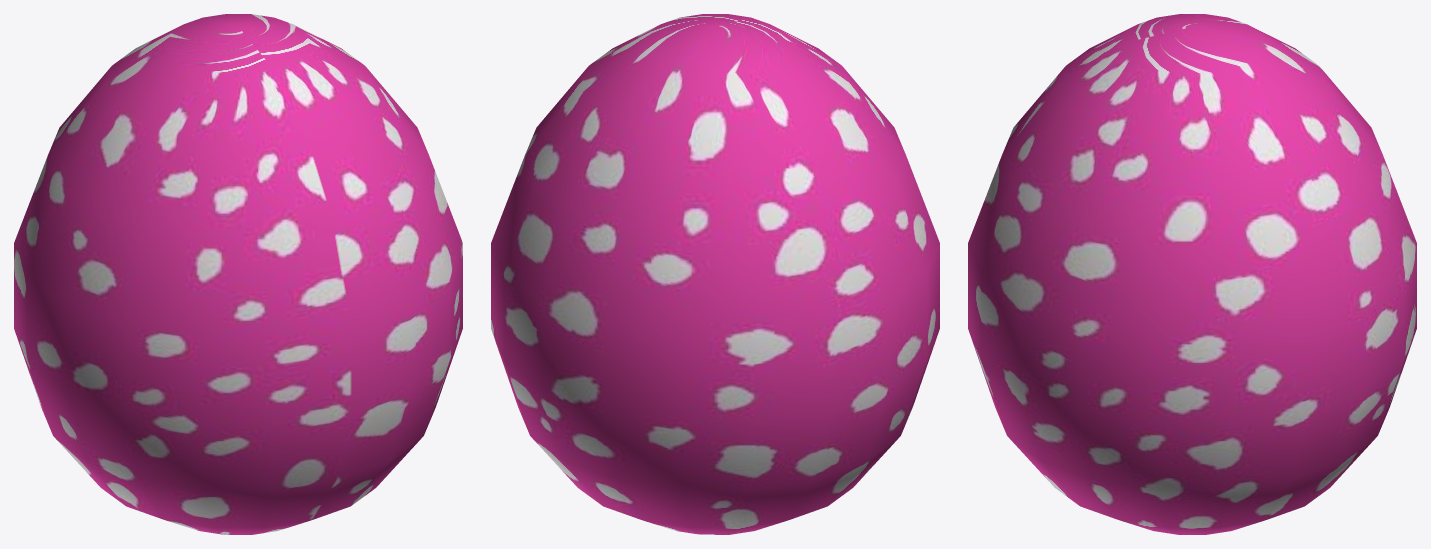
Rendered from dan3.fbx.
3 views of the same model, side by side, from view 1: azimuth 30°, elevation 25°; view 2: azimuth 150°, elevation 25°; view 3: azimuth 270°, elevation 25° (orthographic).
Parts seen in each view (by area): view 1: Sphere003; view 2: Sphere003; view 3: Sphere003.
Boxes of the visible parts, box(x1,y1,x2,y2) form: Sphere003: box(14, 14, 462, 534); Sphere003: box(491, 14, 939, 534); Sphere003: box(968, 14, 1416, 534).
Bounding box in the file's own units: 203 × 247 × 206.
